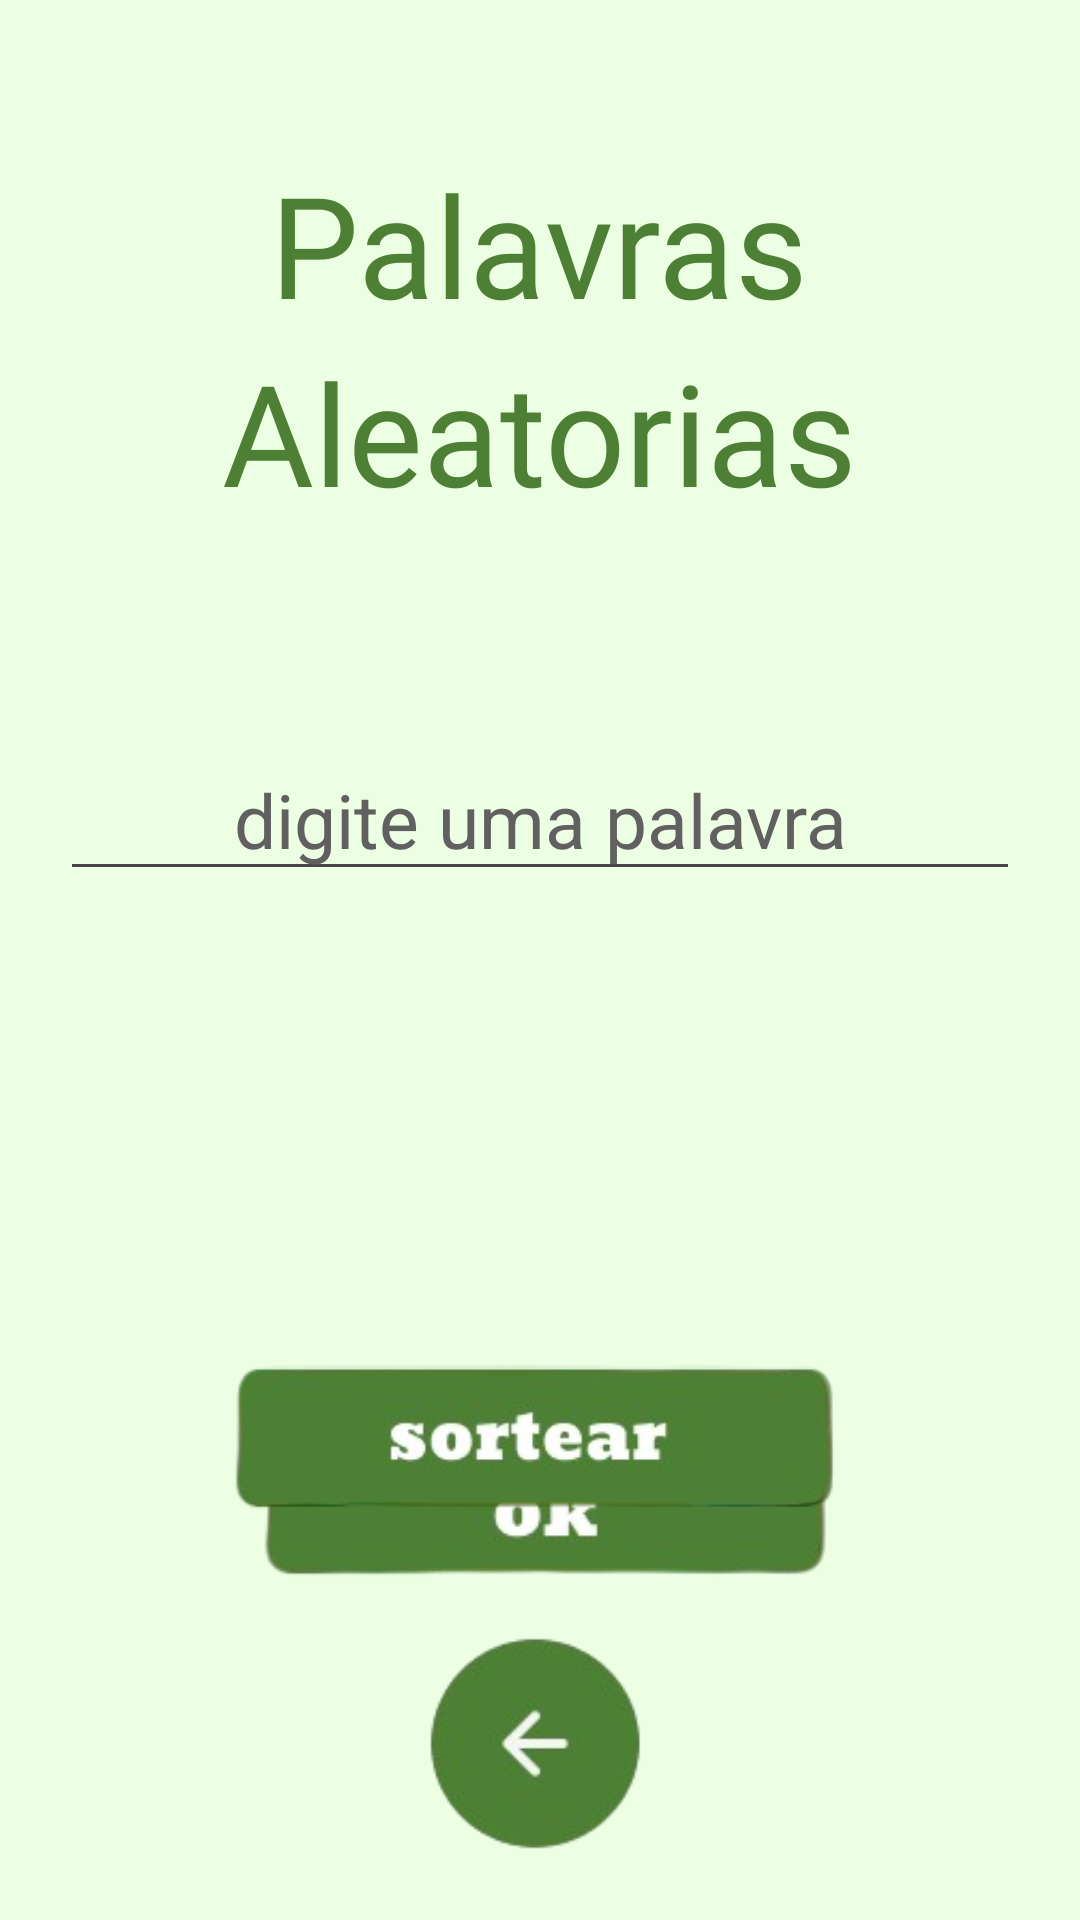

Where to tap for icons on this 1080px×1920px app screen, as (x,y):
voltar: (535,1744)
